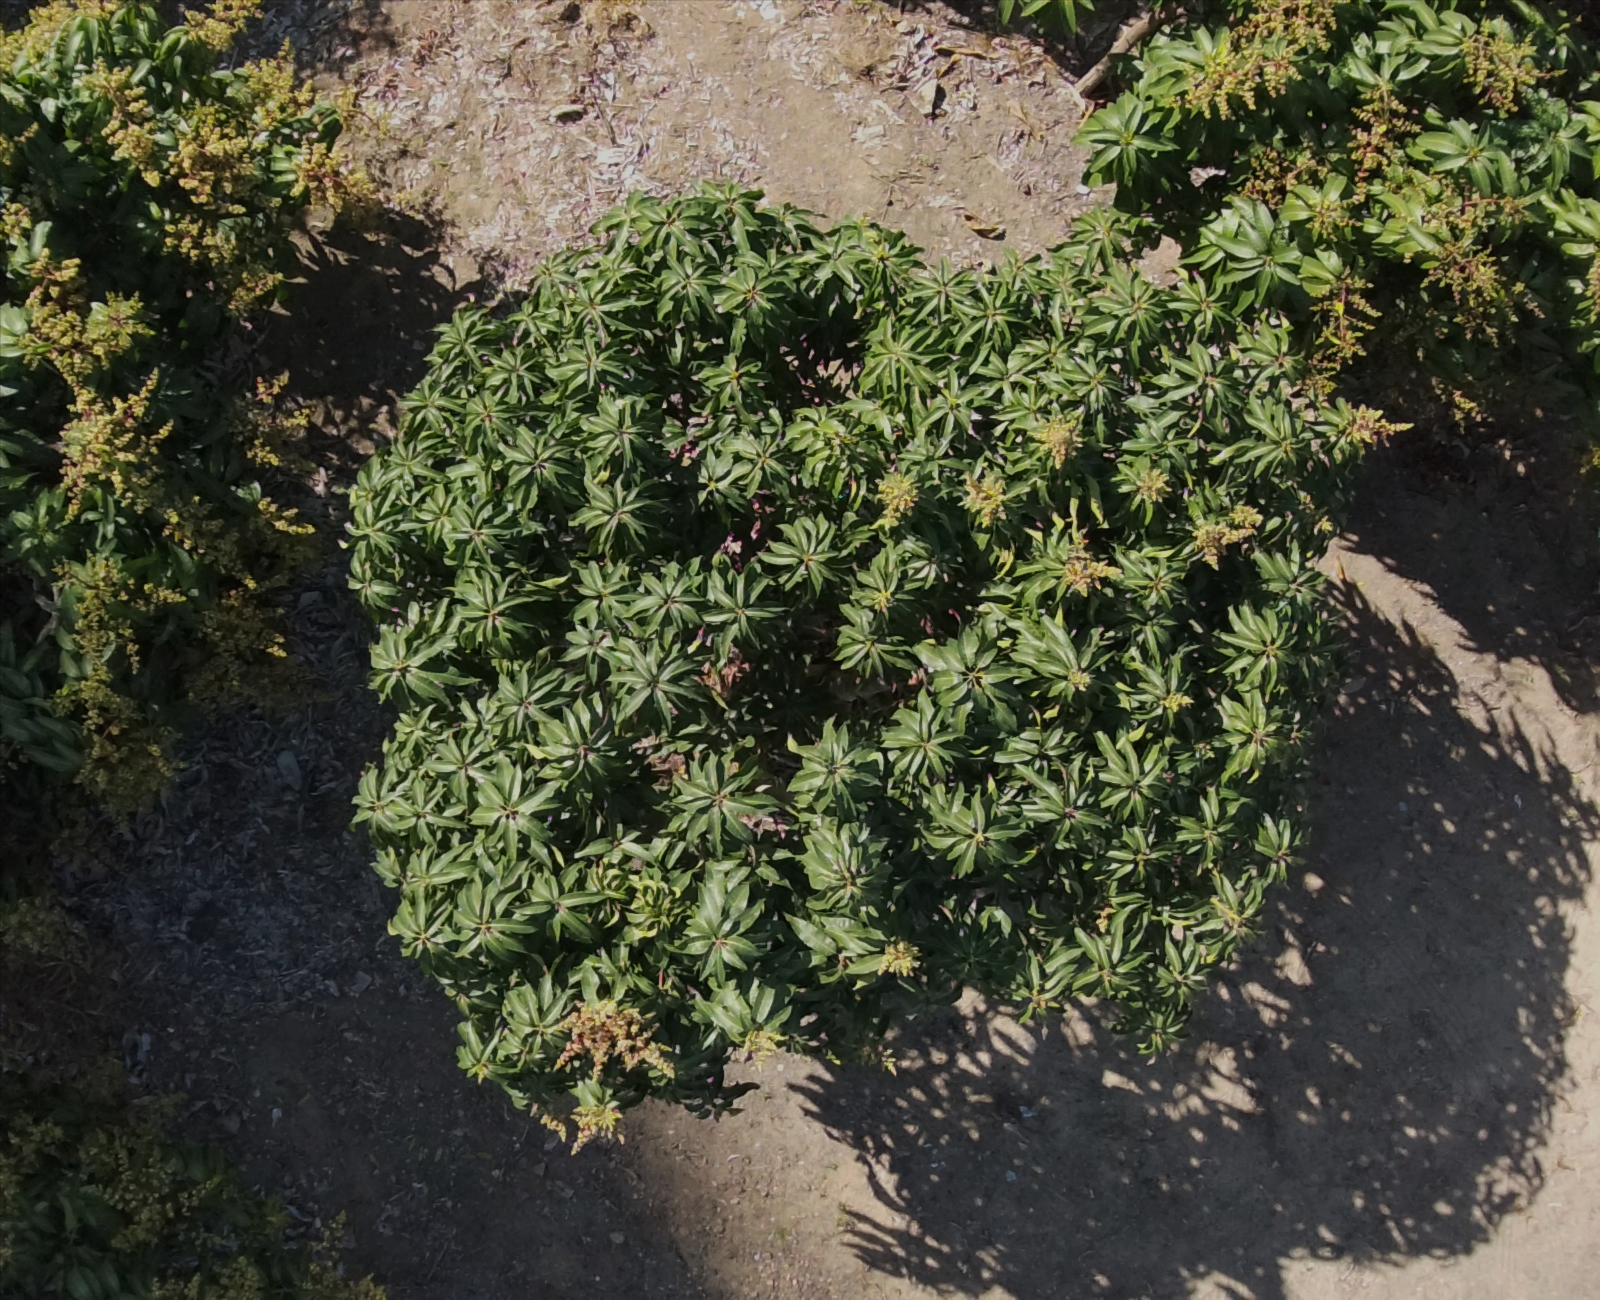flowers: (57, 554, 187, 814), (182, 505, 310, 708), (1418, 183, 1542, 349), (1177, 0, 1335, 118), (61, 371, 180, 524), (1309, 84, 1420, 241), (25, 257, 154, 386), (76, 1125, 206, 1252), (237, 46, 341, 203), (81, 60, 176, 188), (165, 218, 283, 320), (172, 98, 273, 210), (150, 1254, 386, 1299), (0, 1114, 64, 1269), (1305, 271, 1378, 398), (559, 1000, 675, 1078), (0, 0, 126, 72), (1462, 20, 1550, 115), (245, 371, 306, 466), (1240, 145, 1317, 208), (1194, 504, 1262, 569), (186, 0, 260, 50), (570, 1080, 620, 1151), (0, 186, 42, 261), (1343, 406, 1410, 446), (1061, 551, 1118, 596), (1033, 415, 1080, 468), (965, 476, 1006, 527), (878, 474, 917, 527), (738, 1029, 784, 1063), (877, 941, 919, 976), (1136, 467, 1167, 504), (1585, 253, 1599, 328)
